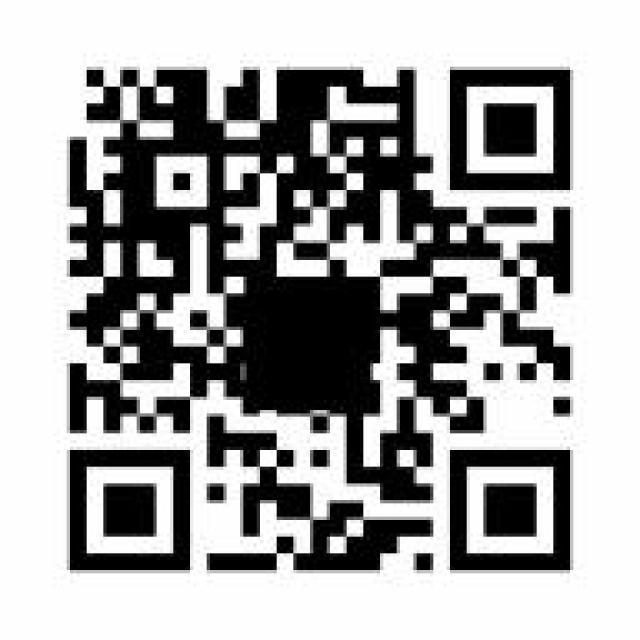qr_code: (69, 68, 571, 572)
